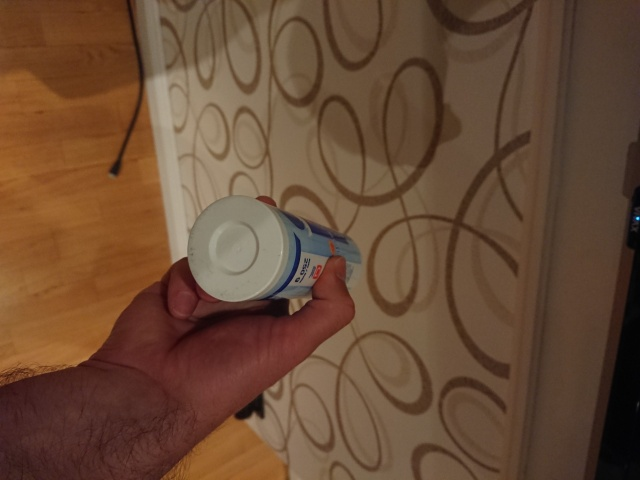Solana Pag Fine Sea Salt 250g: (184, 192, 366, 307)
